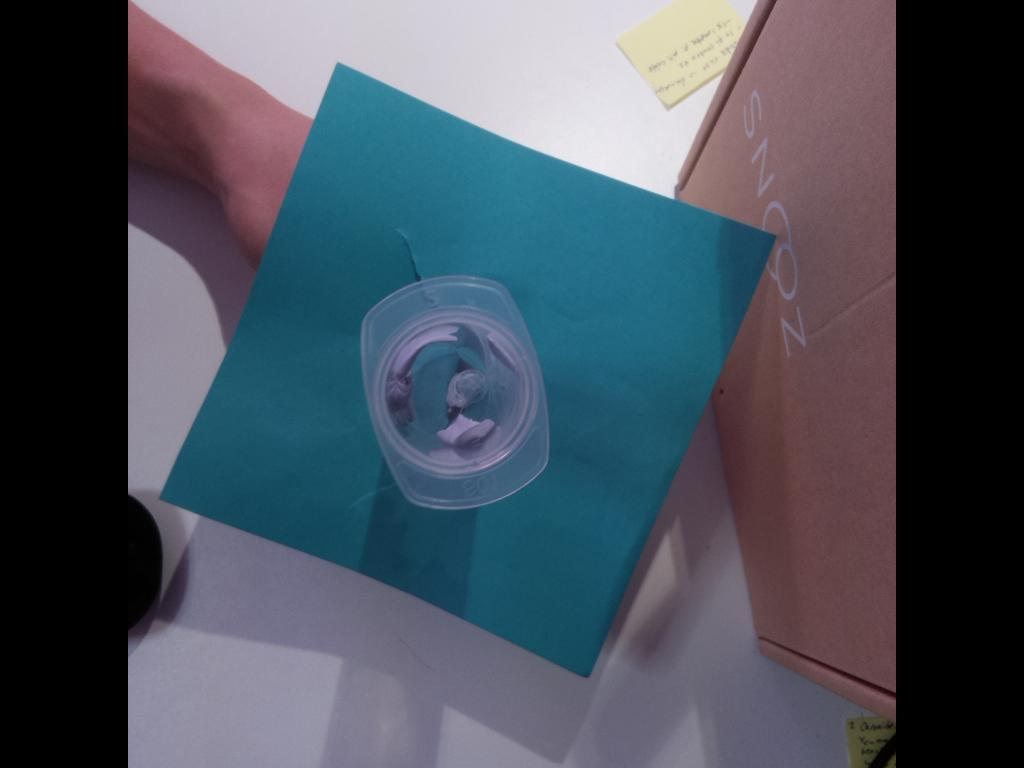dirty: (359, 274, 550, 508)
